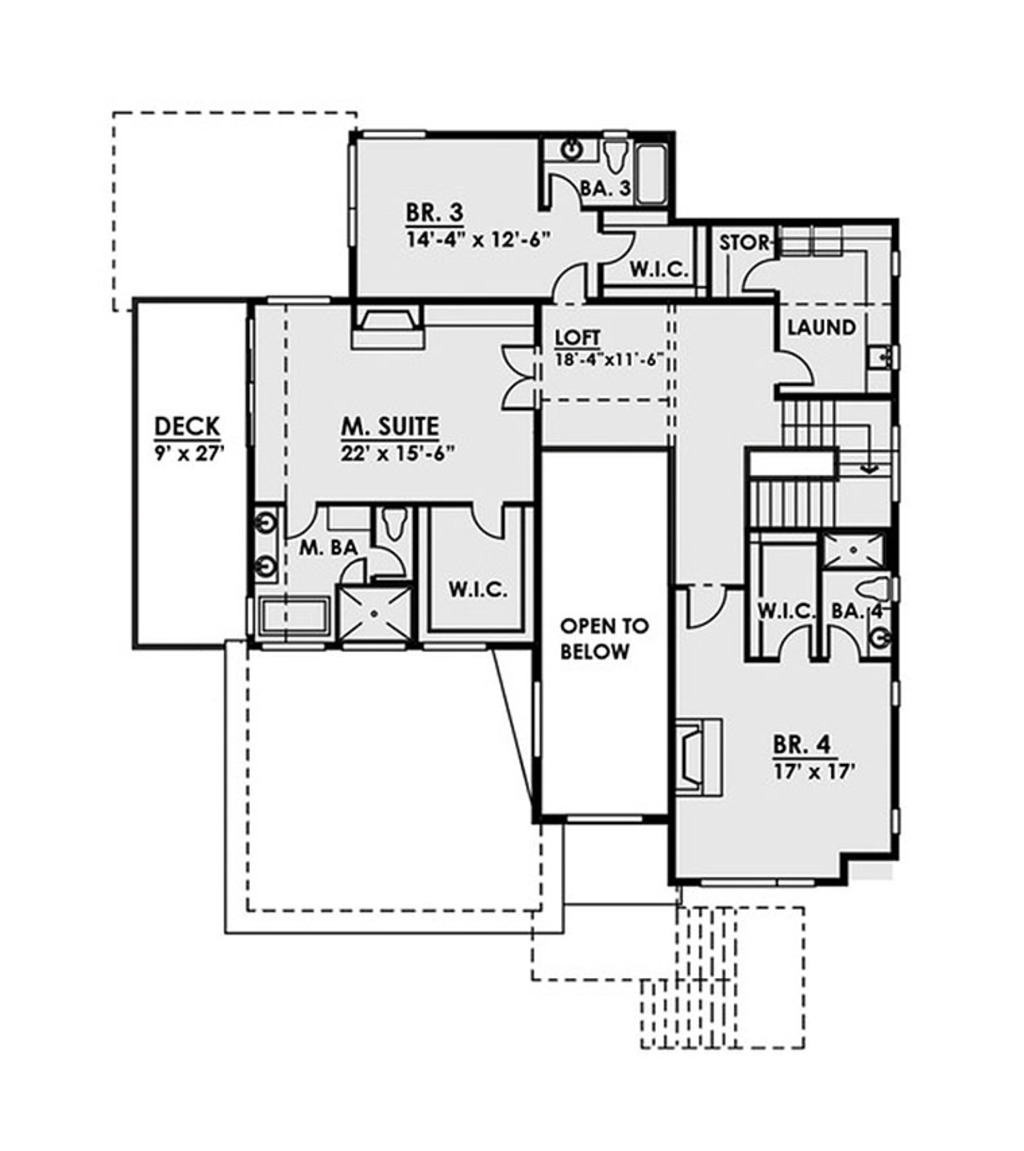door: (497, 343, 537, 413), (467, 499, 514, 546), (682, 585, 728, 632), (775, 345, 818, 393), (277, 499, 327, 537), (372, 542, 418, 582), (544, 170, 586, 213), (549, 262, 589, 306), (738, 256, 782, 295), (779, 617, 810, 665), (823, 626, 862, 664), (598, 226, 633, 264), (334, 556, 368, 586)
large_sink: (851, 568, 901, 608), (600, 137, 631, 181), (379, 502, 411, 541)
small_sink: (536, 130, 606, 169), (253, 502, 279, 591)
stairs: (743, 401, 888, 536)
tub: (258, 598, 337, 643), (633, 137, 670, 209)
windows: (525, 670, 549, 762), (345, 143, 364, 256), (697, 873, 820, 890), (559, 807, 643, 831), (261, 295, 331, 312)
